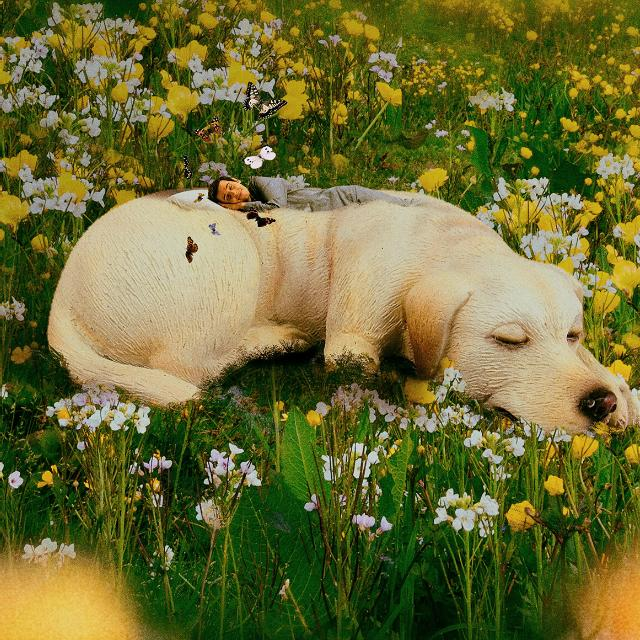dog: (390, 220, 634, 444)
